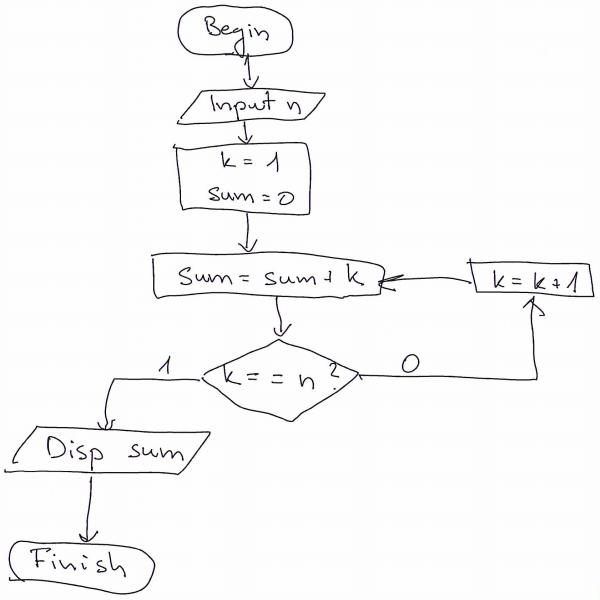arrow: (360, 298, 549, 392), (95, 371, 191, 427), (386, 264, 481, 292), (77, 475, 102, 550), (267, 291, 293, 336), (240, 213, 262, 249), (241, 58, 260, 84), (236, 122, 254, 144)
data: (8, 424, 220, 478), (175, 84, 332, 127)
decision: (204, 336, 362, 427)
process: (147, 246, 387, 304), (168, 142, 319, 216)
terminator: (4, 535, 161, 598), (174, 0, 300, 60)
text: (173, 261, 366, 287), (42, 435, 188, 469), (192, 4, 274, 53), (29, 547, 137, 582), (213, 364, 343, 392), (200, 89, 305, 116), (205, 179, 301, 208), (206, 146, 286, 178), (488, 266, 583, 292)
